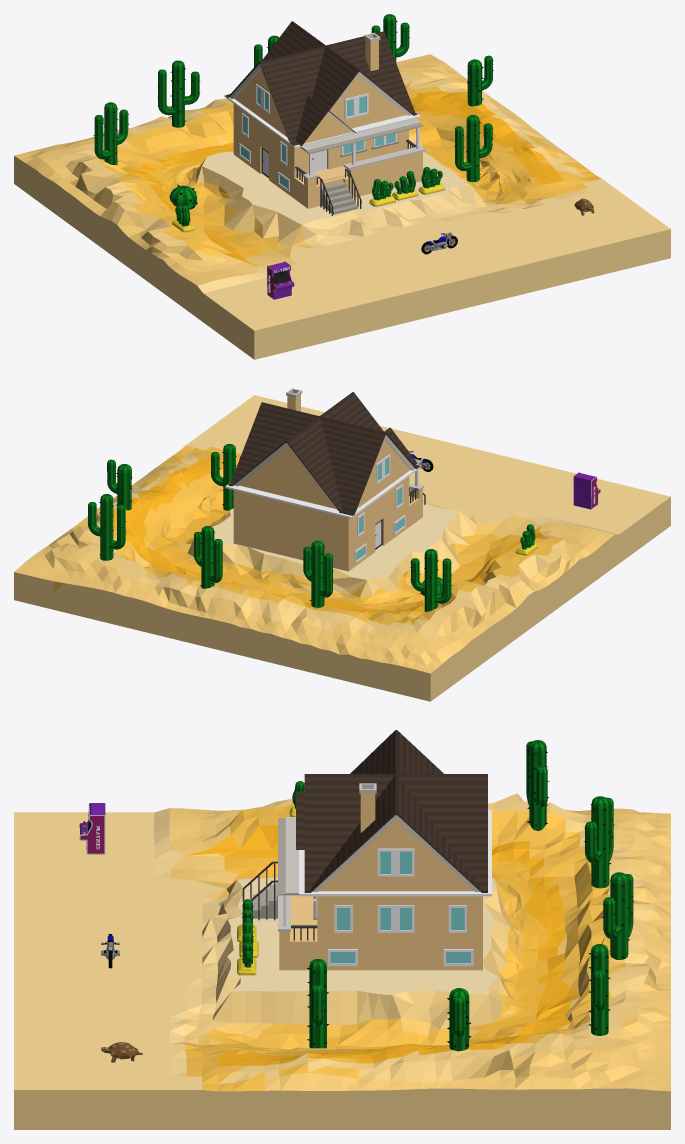
The picture shows the model from 3 angles, top to bottom: view 1: azimuth 30°, elevation 25°; view 2: azimuth 150°, elevation 25°; view 3: azimuth 270°, elevation 25°; orthographic projection. The views are drawn at different scales.
Parts seen in each view (by area): view 1: Cube.001, Cube.235, Cylinder.037, Cylinder.044, Cylinder.045, Cylinder.038, Cylinder.042, OBJRANDOM_ARCADE, Cylinder.039, Cylinder.041, Sphere.023, Cylinder.040; view 2: Cube.001, Cube.235, Cylinder.042, Cylinder.045, Cylinder.044, Cylinder.043, Cylinder.037, Cylinder.038, OBJRANDOM_ARCADE; view 3: Cube.001, Cube.235, Cylinder.043, Cylinder.044, Cylinder.045, Cylinder.042, Cylinder.037, Cylinder.038, OBJRANDOM_ARCADE, Cylinder.041.
Boxes of the visible parts, bbox=[...] form: Cube.001: bbox=[14, 54, 670, 359]; Cube.235: bbox=[224, 21, 425, 215]; Cylinder.037: bbox=[454, 115, 493, 182]; Cylinder.044: bbox=[157, 60, 200, 127]; Cylinder.045: bbox=[93, 102, 129, 164]; Cylinder.038: bbox=[467, 55, 493, 106]; Cylinder.042: bbox=[371, 14, 409, 62]; OBJRANDOM_ARCADE: bbox=[267, 261, 294, 299]; Cylinder.039: bbox=[369, 179, 395, 206]; Cylinder.041: bbox=[418, 167, 445, 194]; Sphere.023: bbox=[169, 184, 197, 209]; Cylinder.040: bbox=[392, 171, 418, 200]; Cube.001: bbox=[14, 395, 670, 701]; Cube.235: bbox=[225, 388, 425, 571]; Cylinder.042: bbox=[88, 494, 126, 560]; Cylinder.045: bbox=[410, 549, 452, 611]; Cylinder.044: bbox=[303, 540, 333, 607]; Cylinder.043: bbox=[193, 526, 222, 588]; Cylinder.037: bbox=[211, 444, 240, 510]; Cylinder.038: bbox=[107, 459, 131, 510]; OBJRANDOM_ARCADE: bbox=[573, 472, 600, 509]; Cube.001: bbox=[14, 793, 670, 1129]; Cube.235: bbox=[242, 730, 491, 970]; Cylinder.043: bbox=[602, 872, 634, 959]; Cylinder.044: bbox=[584, 796, 614, 888]; Cylinder.045: bbox=[526, 740, 549, 830]; Cylinder.042: bbox=[588, 944, 610, 1035]; Cylinder.037: bbox=[307, 959, 329, 1048]; Cylinder.038: bbox=[447, 988, 471, 1051]; OBJRANDOM_ARCADE: bbox=[79, 803, 105, 854]; Cylinder.041: bbox=[237, 932, 256, 975].
Bounding box in the file's own units: 4002 × 1627 × 4001.
Materials: 38 (2 with a texture image).
